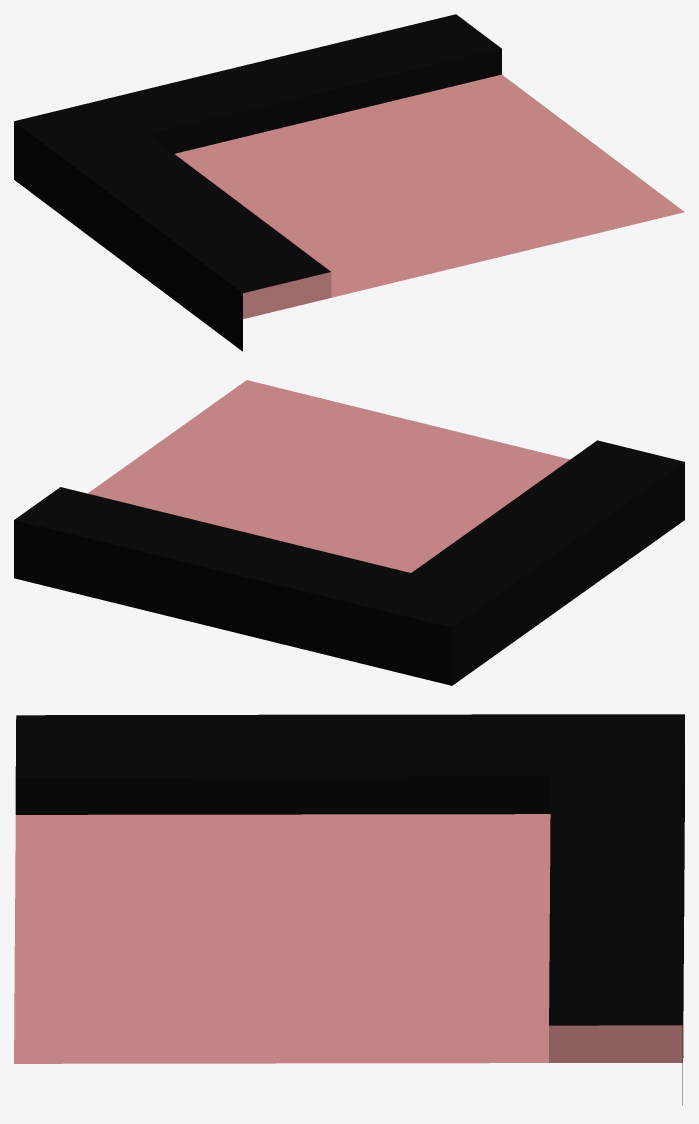
Rendered from Väg_Sväng_Med_Ytter.fbx.
The picture shows the model from 3 angles, top to bottom: view 1: azimuth 30°, elevation 25°; view 2: azimuth 150°, elevation 25°; view 3: azimuth 270°, elevation 25°; orthographic projection. The views are drawn at different scales.
Parts seen in each view (by area): view 1: Mesh_Turn; view 2: Mesh_Turn; view 3: Mesh_Turn.
Part boxes in pixels (<box>): Mesh_Turn: <box>14,14,684,351</box>; Mesh_Turn: <box>14,380,684,685</box>; Mesh_Turn: <box>14,714,684,1105</box>.
Size of the model in its own units: 31.22 by 4.06 by 28.28.
